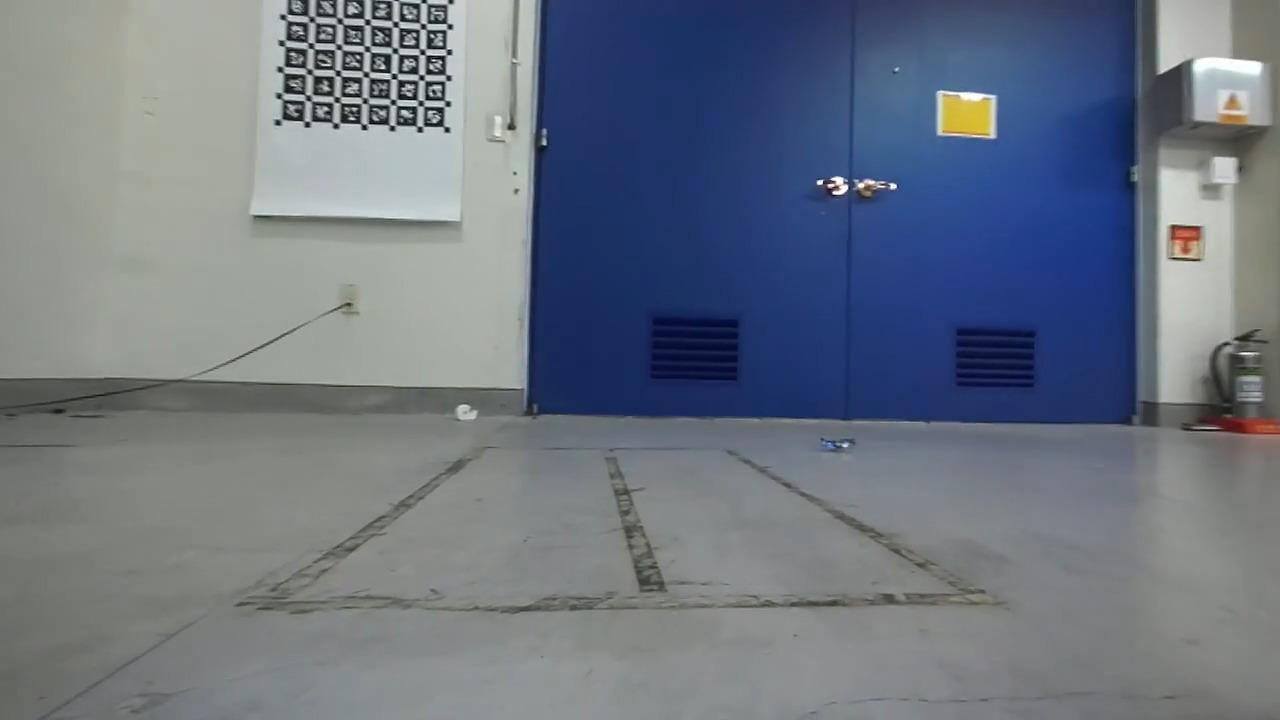crazyflie: (813, 430, 868, 458)
